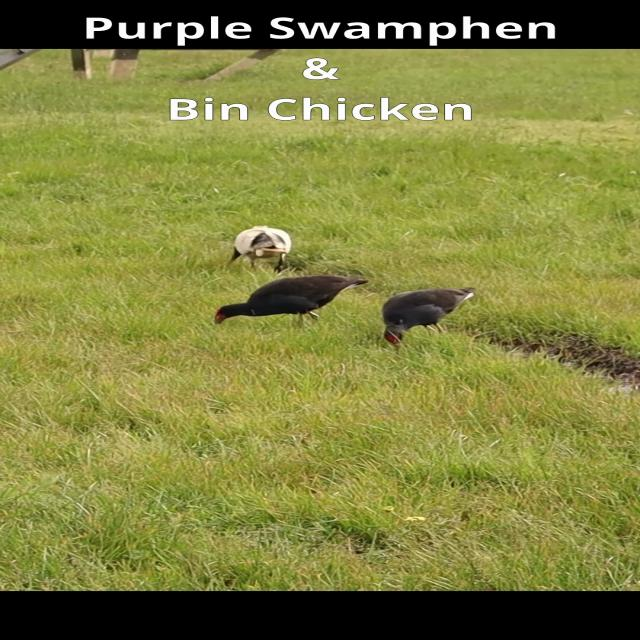Birds-Ibis: (221, 222, 299, 274)
Birds-Other: (207, 270, 371, 332), (378, 282, 482, 356)
